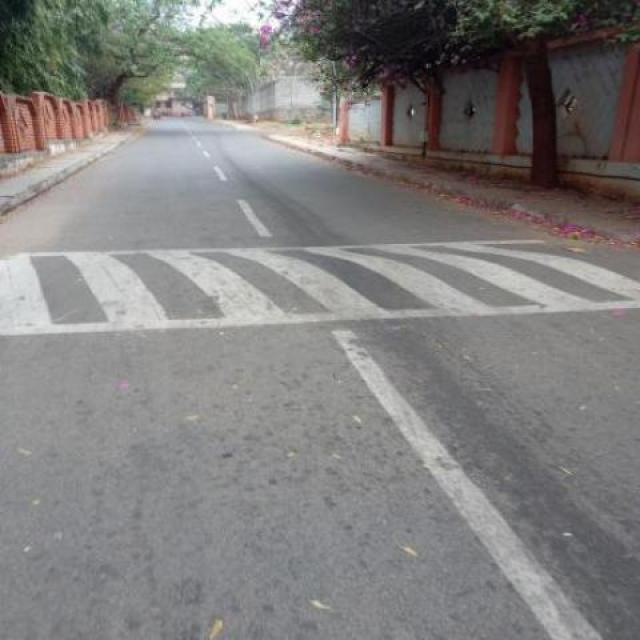Speed Bump: (0, 238, 639, 340)
